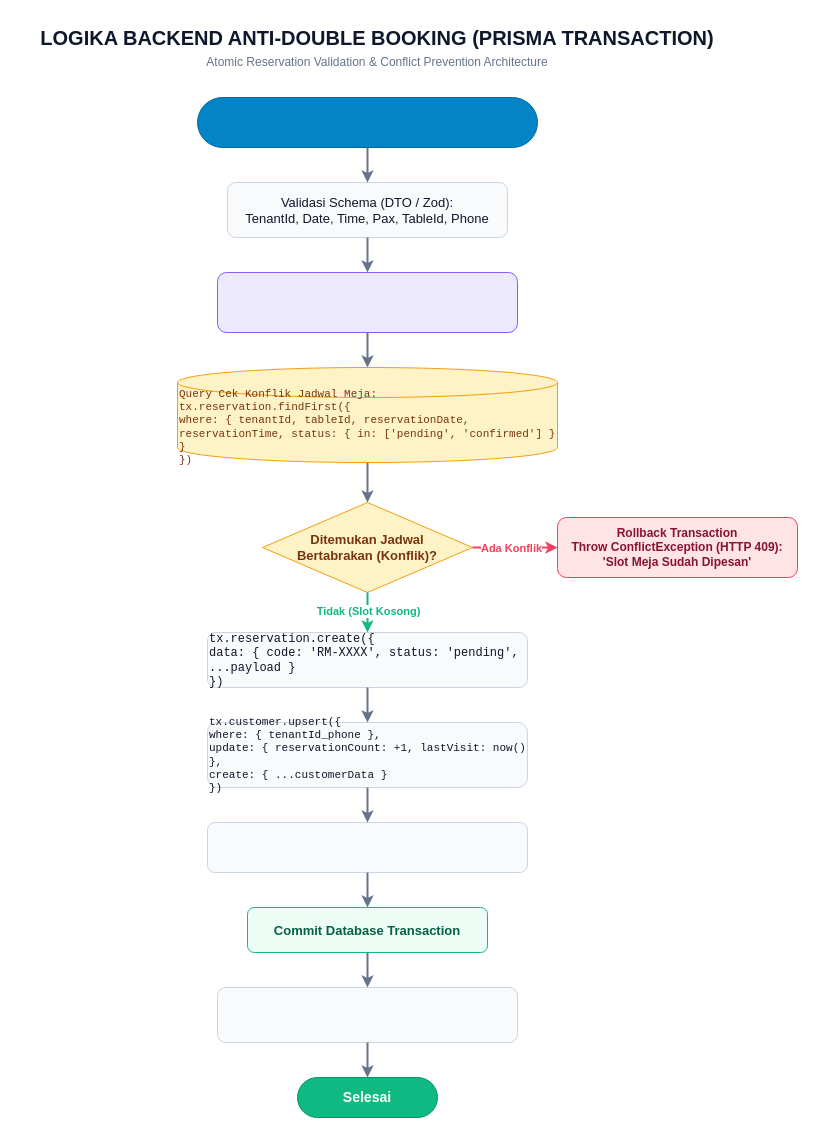
This 815x1135 diagram has some shape labels left out. The shapes that lost their labels are listed below. From the top down, each one's centre as x and y in pixels, then its label:
At (367,122): "Request Masuk: POST /reservations atau Tool: create_reservation".
At (367,302): "Buka Prisma Interactive Transaction prisma.$transaction(async (tx) => { ... })".
At (367,847): "tx.auditEvent.create({ action: 'RESERVATION_CREATED', actor: 'customer/ai' })".
At (367,1014): "Kembalikan HTTP 201 Created (JSON Response: Reservation & Code RM-XXXX)".
